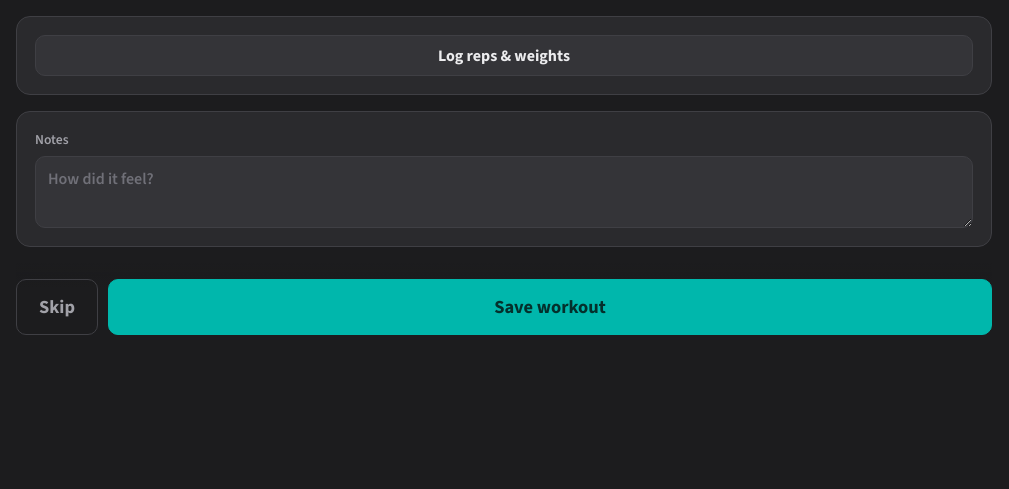
Scenario: SetLogger › hides the table for timed workouts until asked, and leaves out rest steps
The width and height of the screenshot is (1009, 489).
Click the button "Log reps & weights".
click(504, 56)  # box [35,35,973,76]
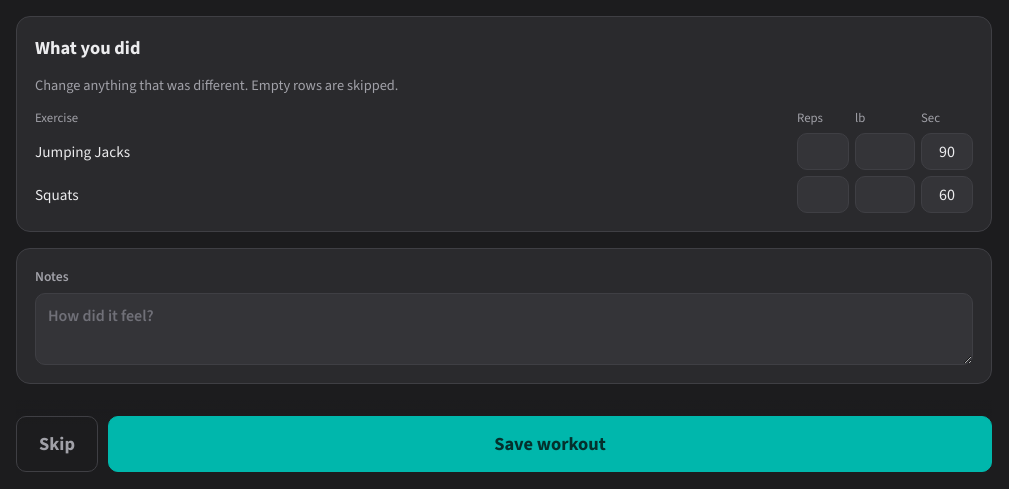
Expected: the number field named "Jumping Jacks seconds" holds "90", [921,133,973,170]
